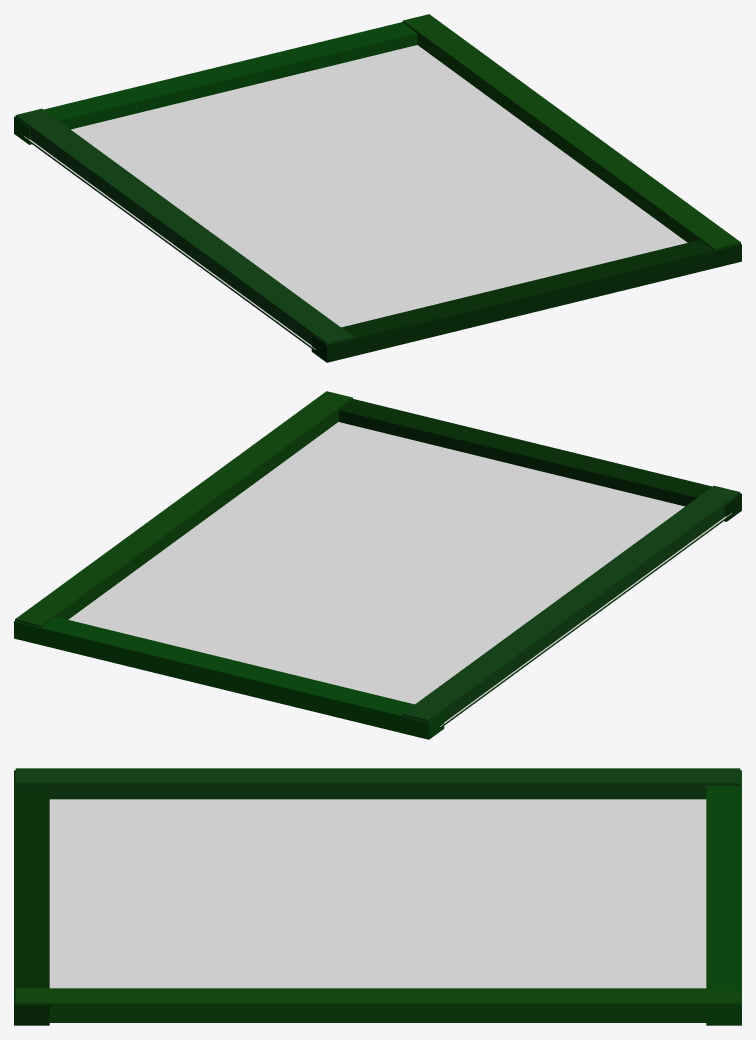
The model's file is frame.4.fbx.
3 renders of one model, top to bottom at view 1: azimuth 30°, elevation 25°; view 2: azimuth 150°, elevation 25°; view 3: azimuth 270°, elevation 25°, orthographic. The views are drawn at different scales.
Visible parts, largest first — view 1: 平面, 立方体.003, 立方体.001, 立方体, 立方体.002; view 2: 平面, 立方体.002, 立方体.001, 立方体, 立方体.003; view 3: 平面, 立方体, 立方体.001, 立方体.002, 立方体.003.
Boxes of the visible parts, x1,y1,x2,y2 form: 平面: (24, 45, 687, 349); 立方体.003: (311, 240, 741, 362); 立方体.001: (15, 108, 353, 348); 立方体: (402, 14, 740, 250); 立方体.002: (14, 22, 417, 144); 平面: (68, 422, 731, 726); 立方体.002: (14, 617, 444, 739); 立方体.001: (402, 485, 740, 725); 立方体: (15, 391, 352, 627); 立方体.003: (338, 399, 741, 521); 平面: (49, 799, 706, 988); 立方体: (15, 988, 740, 1022); 立方体.001: (15, 768, 740, 799); 立方体.002: (706, 770, 741, 1025); 立方体.003: (14, 770, 49, 1025).
Bounding box in the file's own units: 231 × 10.1 × 301.
